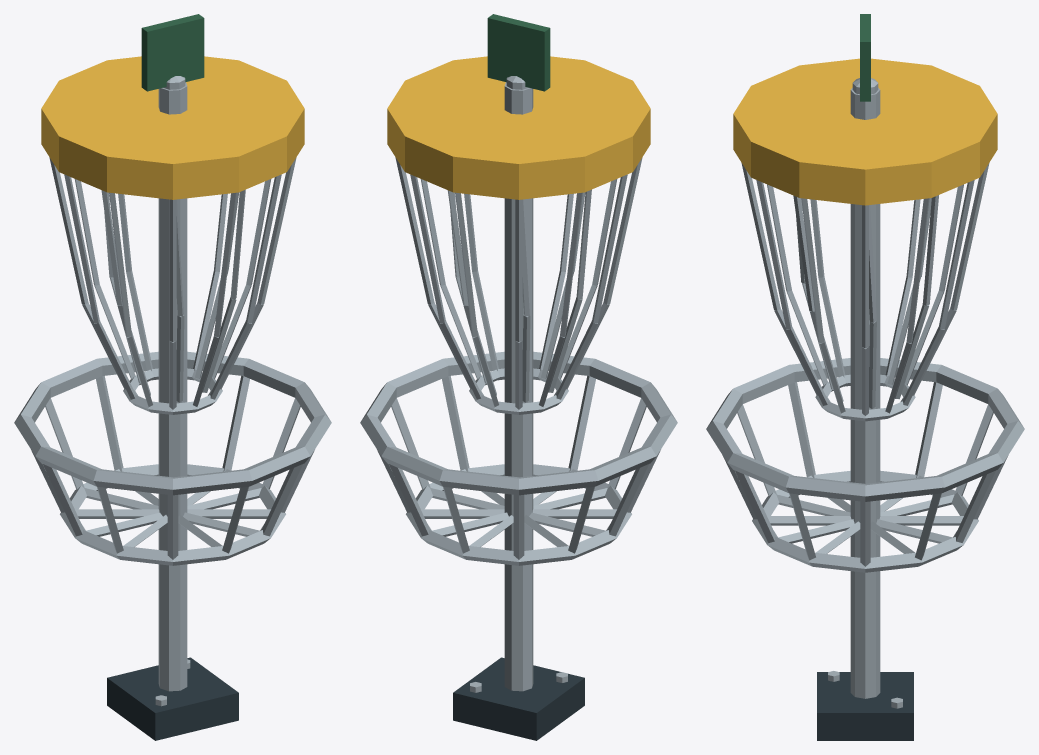
The model's file is b09_disc_golf_basket.glb.
3 views of the same model, side by side, from view 1: azimuth 30°, elevation 25°; view 2: azimuth 150°, elevation 25°; view 3: azimuth 270°, elevation 25° (orthographic).
Parts seen in each view (by area): view 1: b09_disc_golf_basket; view 2: b09_disc_golf_basket; view 3: b09_disc_golf_basket.
Part boxes in pixels (left/top/right/bottom): b09_disc_golf_basket: left=14, top=14, right=331, bottom=740; b09_disc_golf_basket: left=360, top=14, right=677, bottom=740; b09_disc_golf_basket: left=706, top=14, right=1024, bottom=740.
Bounding box in the file's own units: 0.724 × 1.74 × 0.724.
